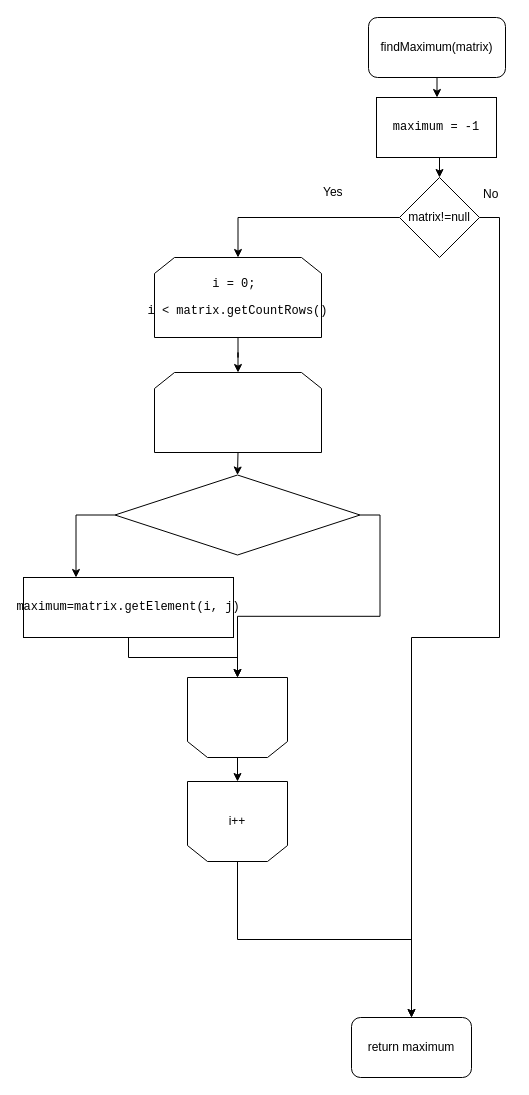
Image size: 529x1095. Some labels were removed from this diagram. The shapes that lost their labels are listed below. From the top down, each one's centre as x and y in pixels, then its label:
(238,412): j = 0 ; j<matrix.getCountColumns()
(237,514): maximum < matrix.getElement(i , j)
(237,717): j++
